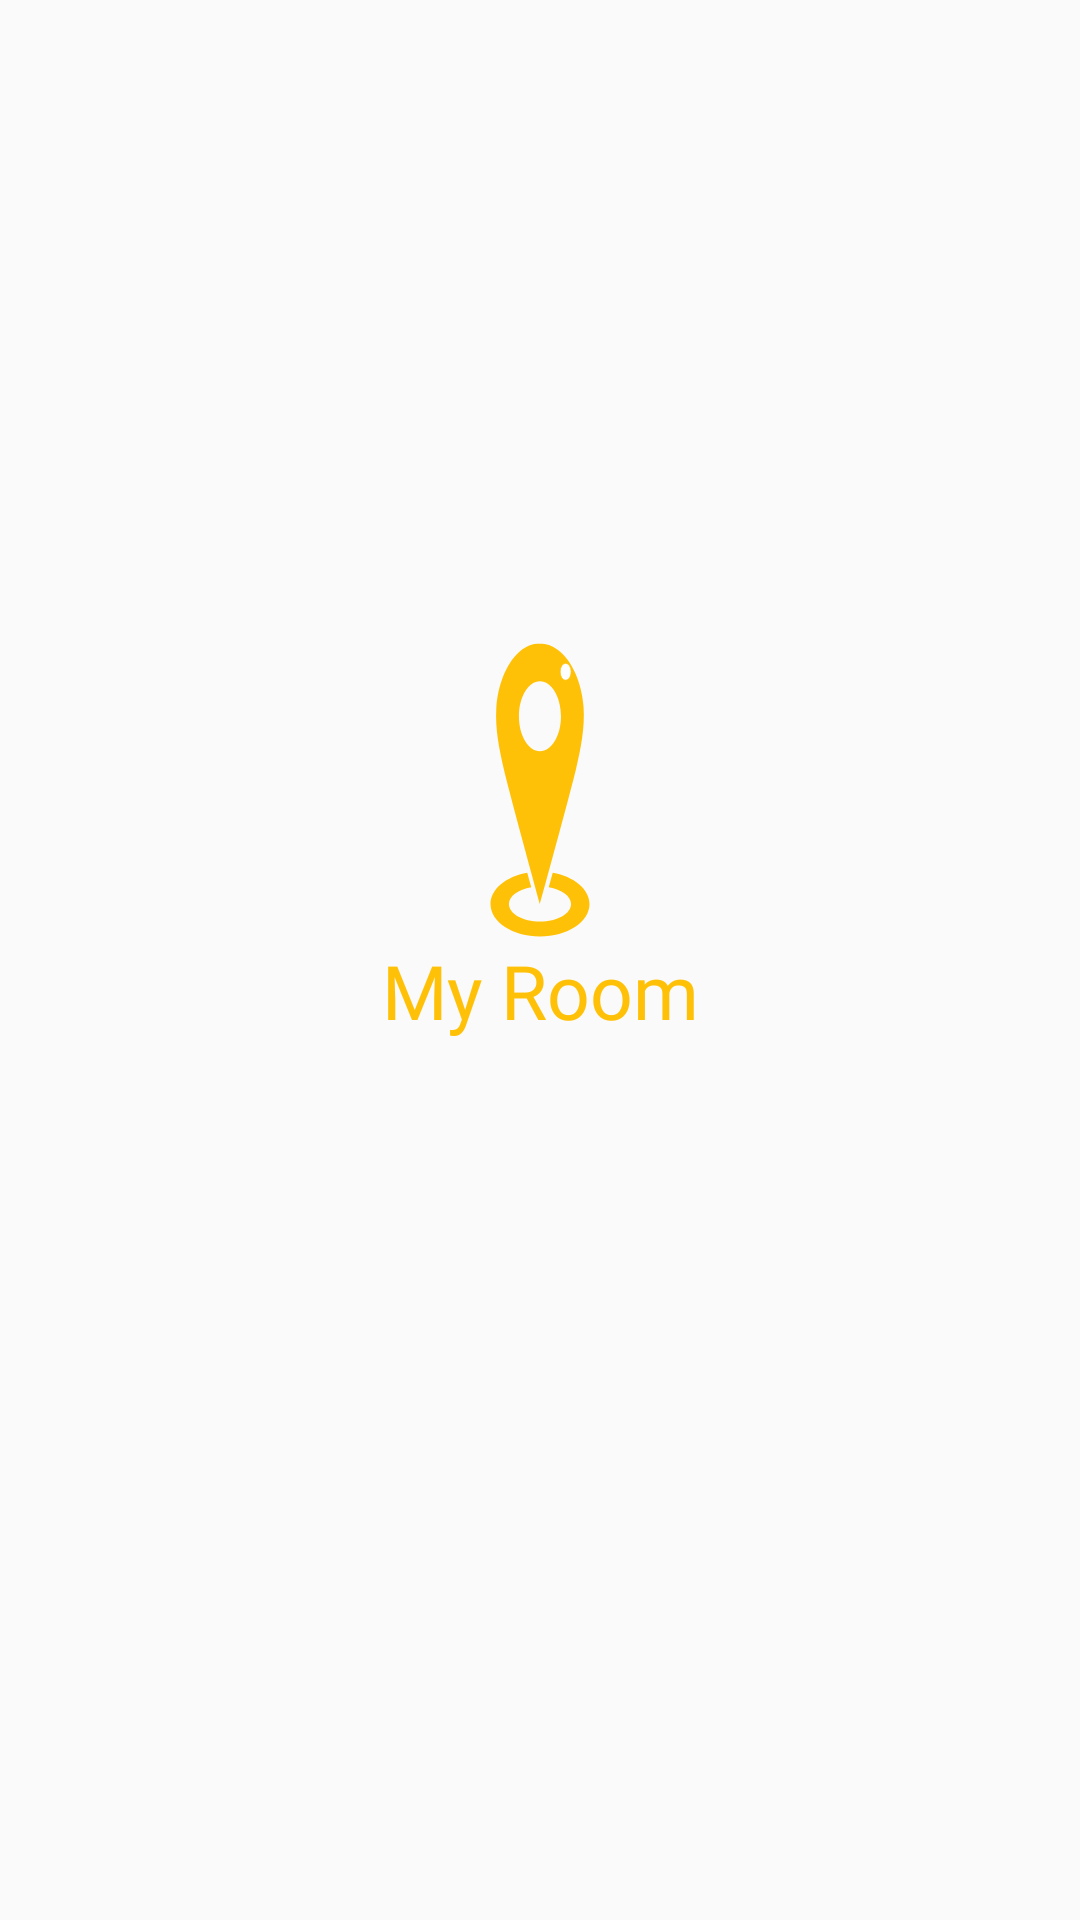

Named icons in this screenshot (1080px×1920px) and their bounding boxes, (x1, y1, x2, y2):
location: (490, 643, 590, 937)
